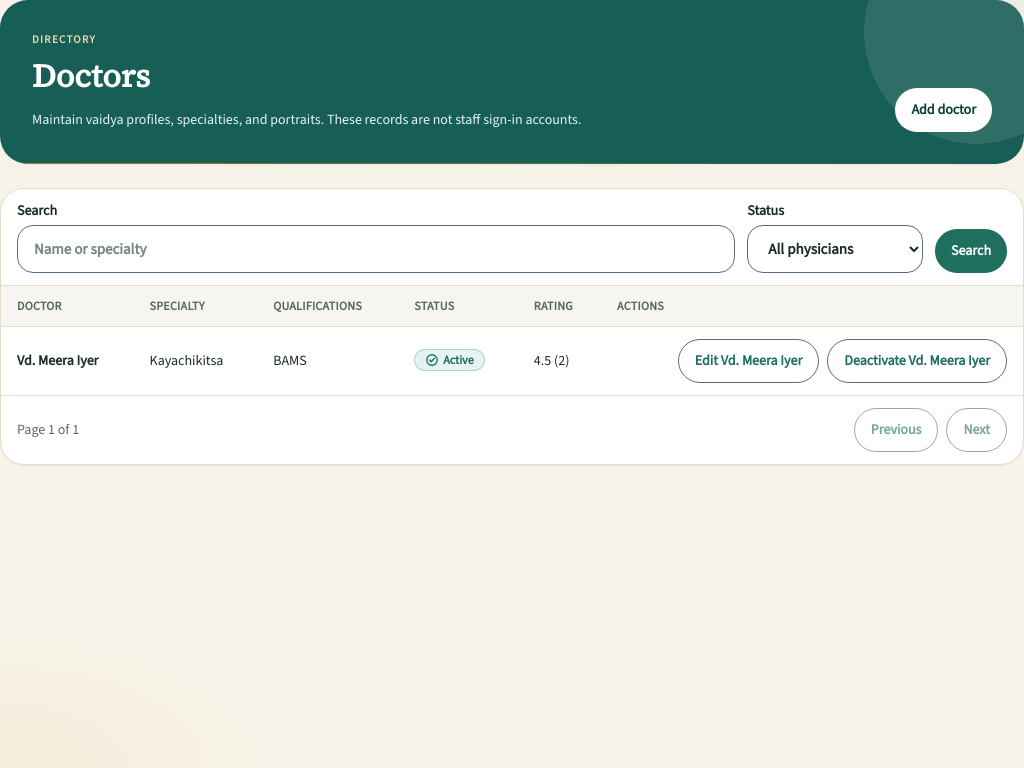
it: DoctorsPage › updates a doctor and deactivates them after confirmation
Expected: the text "Vd. Meera Iyer" is shown, x1=17 y1=351 x2=98 y2=370
Click the button "Edit Vd. Meera Iyer".
click(749, 361)  # box x1=678 y1=339 x2=819 y2=383
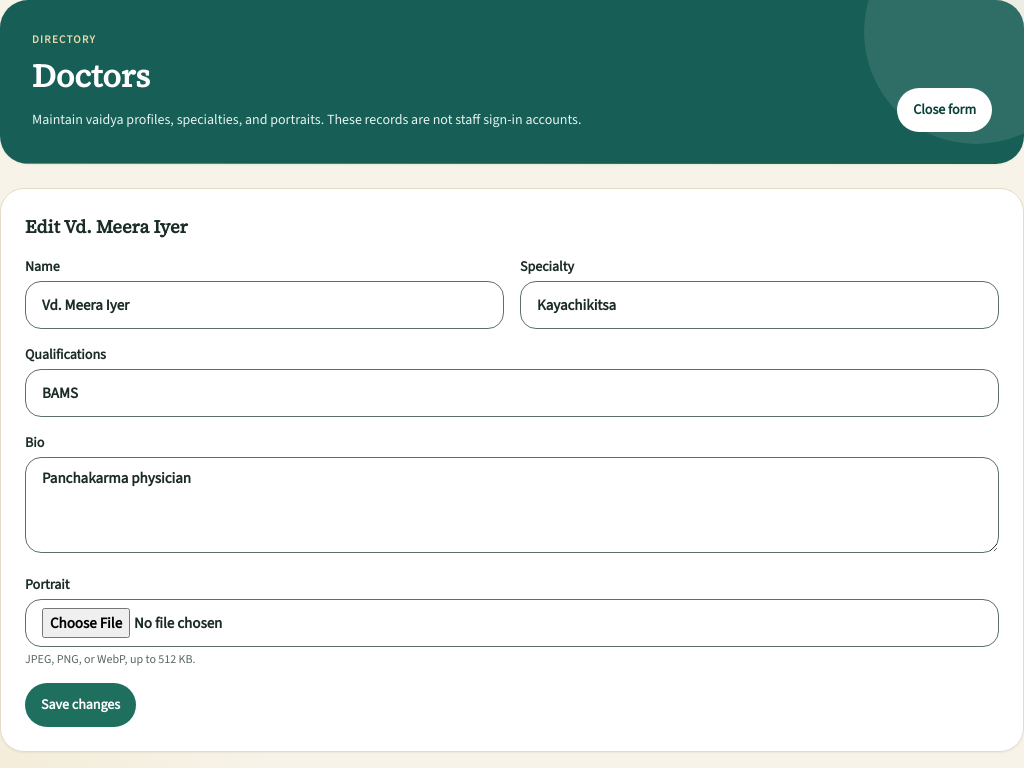
Type "Shalya Tantra" into the field labelled "Specialty".
click(760, 305); type("Shalya Tantra")  # box x1=520 y1=281 x2=999 y2=329
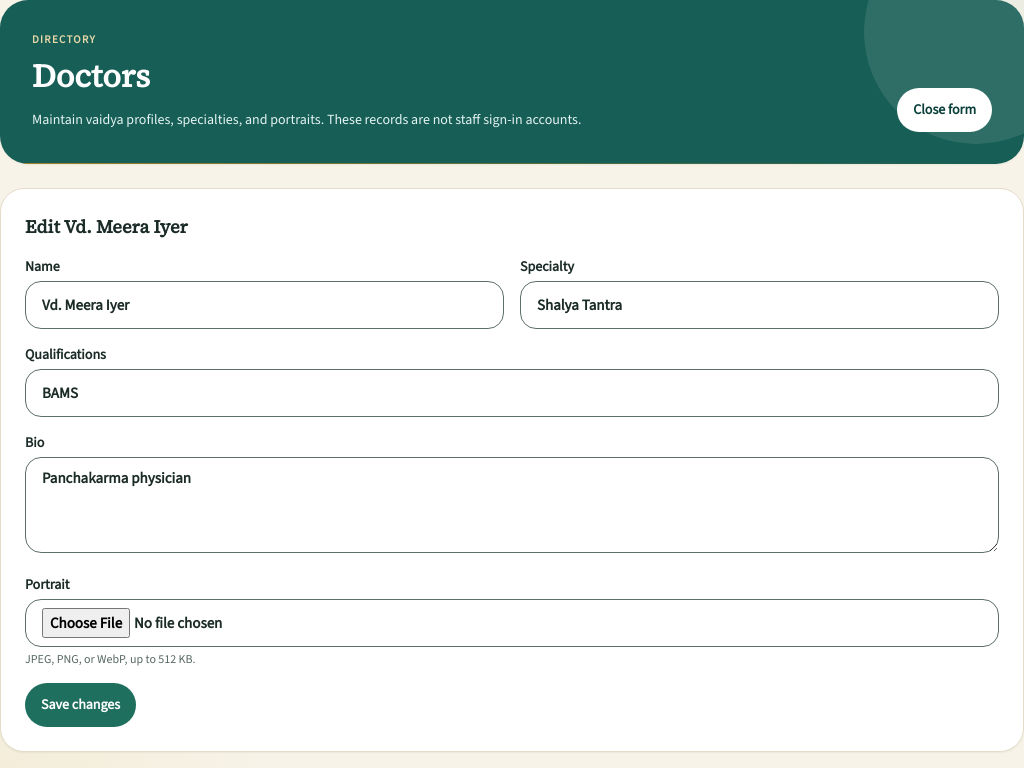
Click the button "Save changes".
click(81, 705)  # box x1=25 y1=683 x2=136 y2=727
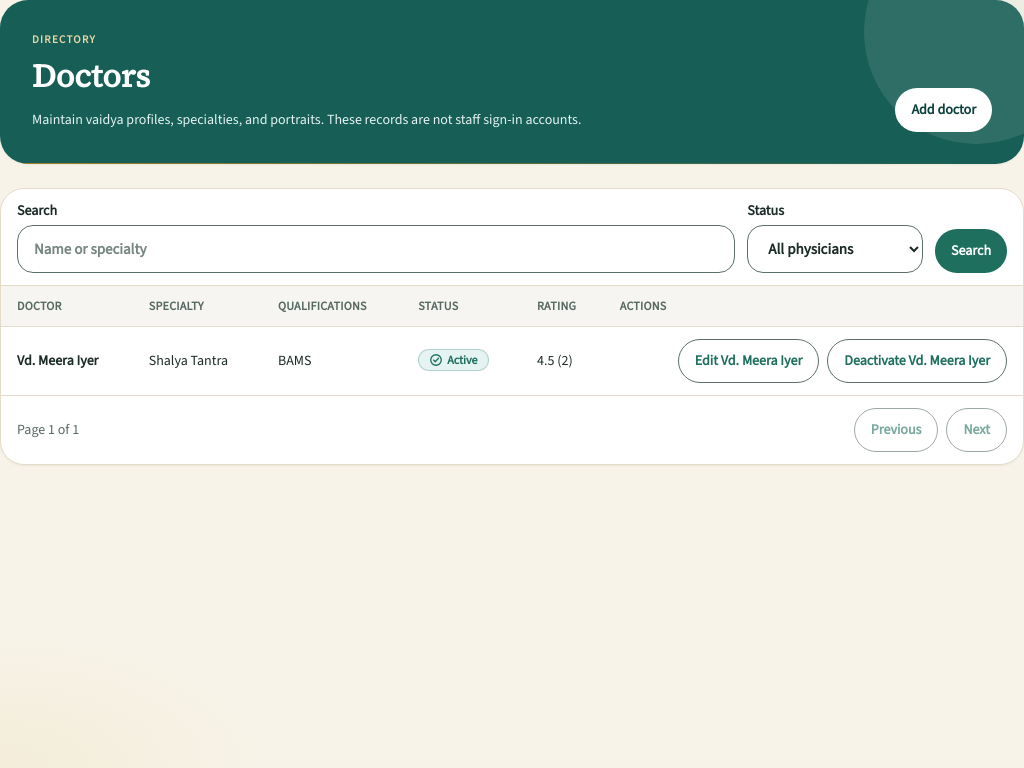
Click the button "Deactivate Vd. Meera Iyer".
click(917, 361)  # box x1=827 y1=339 x2=1007 y2=383
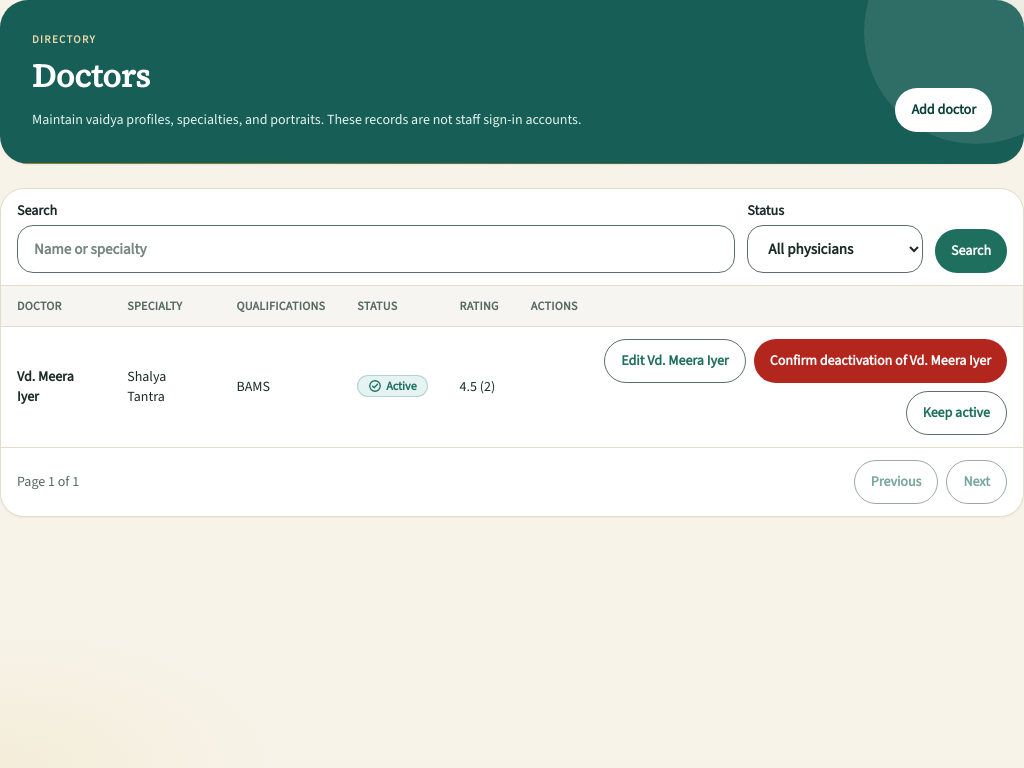
Click the button "Confirm deactivation of Vd. Meera Iyer".
click(880, 361)  # box x1=754 y1=339 x2=1007 y2=383
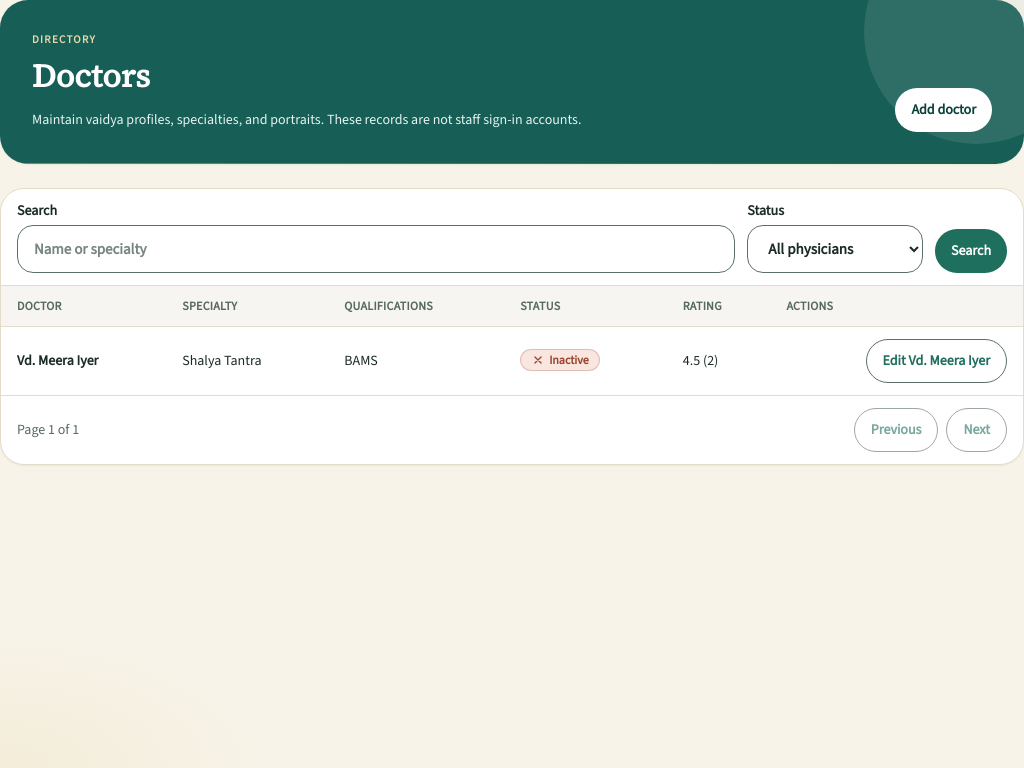
Expected: the text "Inactive" is shown, x1=520 y1=349 x2=600 y2=371
